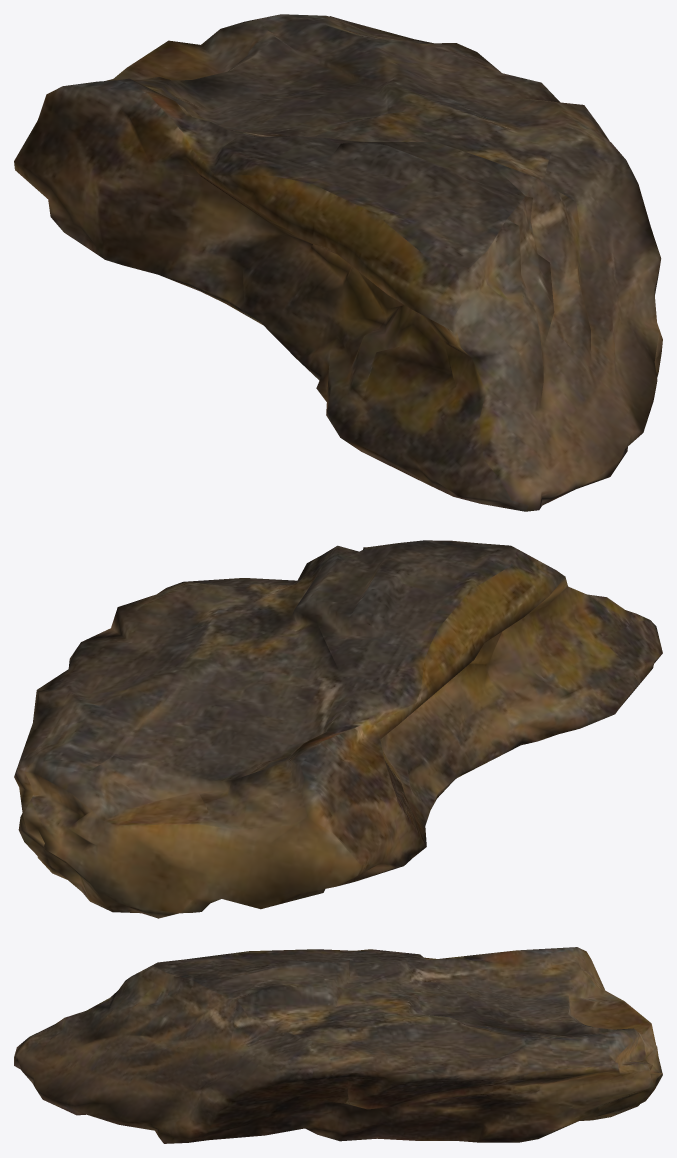
The model's file is rocher4.glb.
The picture shows the model from 3 angles, top to bottom: view 1: azimuth 30°, elevation 25°; view 2: azimuth 150°, elevation 25°; view 3: azimuth 270°, elevation 25°; orthographic projection. The views are drawn at different scales.
Visible parts, largest first — view 1: rock_09_LOD0; view 2: rock_09_LOD0; view 3: rock_09_LOD0.
Part boxes in pixels (x1=…): rock_09_LOD0: x1=14, y1=14, x2=662, y2=511; rock_09_LOD0: x1=14, y1=540, x2=662, y2=918; rock_09_LOD0: x1=14, y1=947, x2=662, y2=1143.
Bounding box in the file's own units: 0.0738 × 0.0326 × 0.1446.
Materials: 1 (1 with a texture image).
